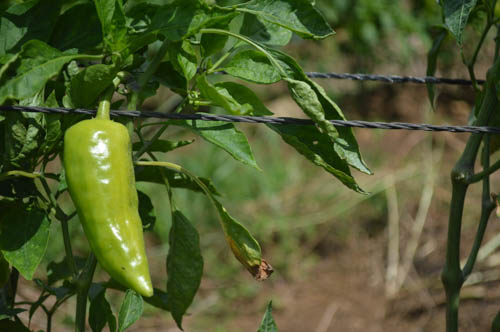ChiliPepper: (68, 122, 155, 294)
